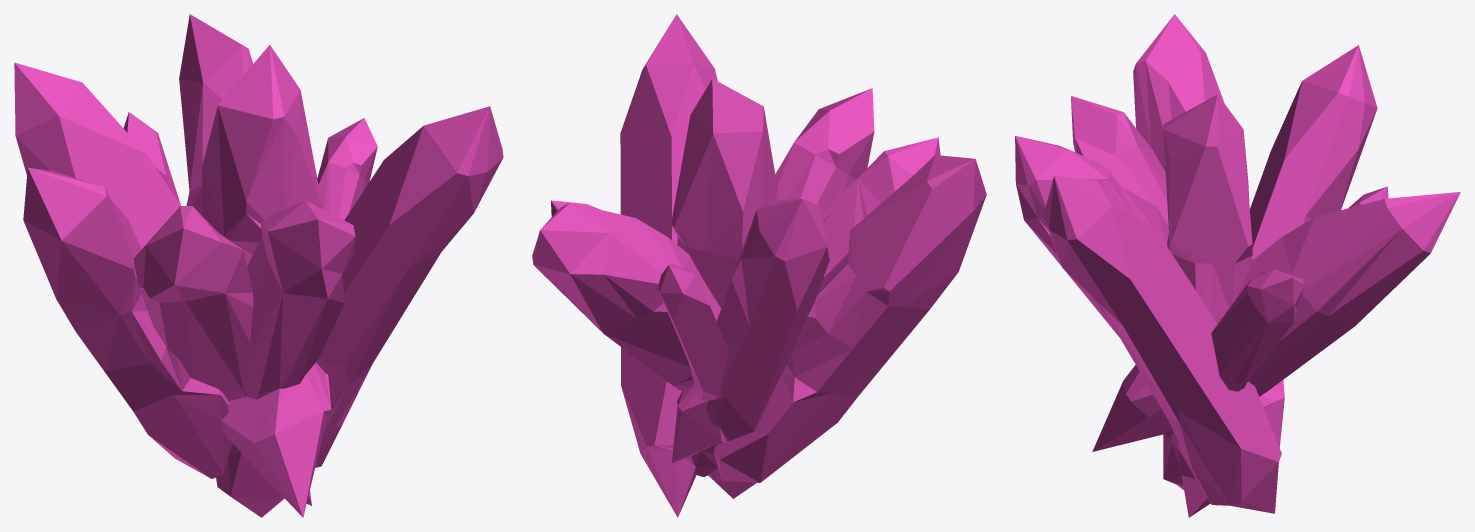
File: SM_CrystalsFormation_A.fbx
3 views of the same model, side by side, from view 1: azimuth 30°, elevation 25°; view 2: azimuth 150°, elevation 25°; view 3: azimuth 270°, elevation 25° (orthographic). The views are drawn at different scales.
Visible parts, largest first — view 1: SM_CrystalsFormation_A; view 2: SM_CrystalsFormation_A; view 3: SM_CrystalsFormation_A.
Part boxes in pixels (left/top/right/bottom): SM_CrystalsFormation_A: left=14, top=14, right=503, bottom=517; SM_CrystalsFormation_A: left=532, top=14, right=986, bottom=517; SM_CrystalsFormation_A: left=1015, top=14, right=1460, bottom=517.
Size of the model in its own units: 77 by 81.01 by 78.13.
